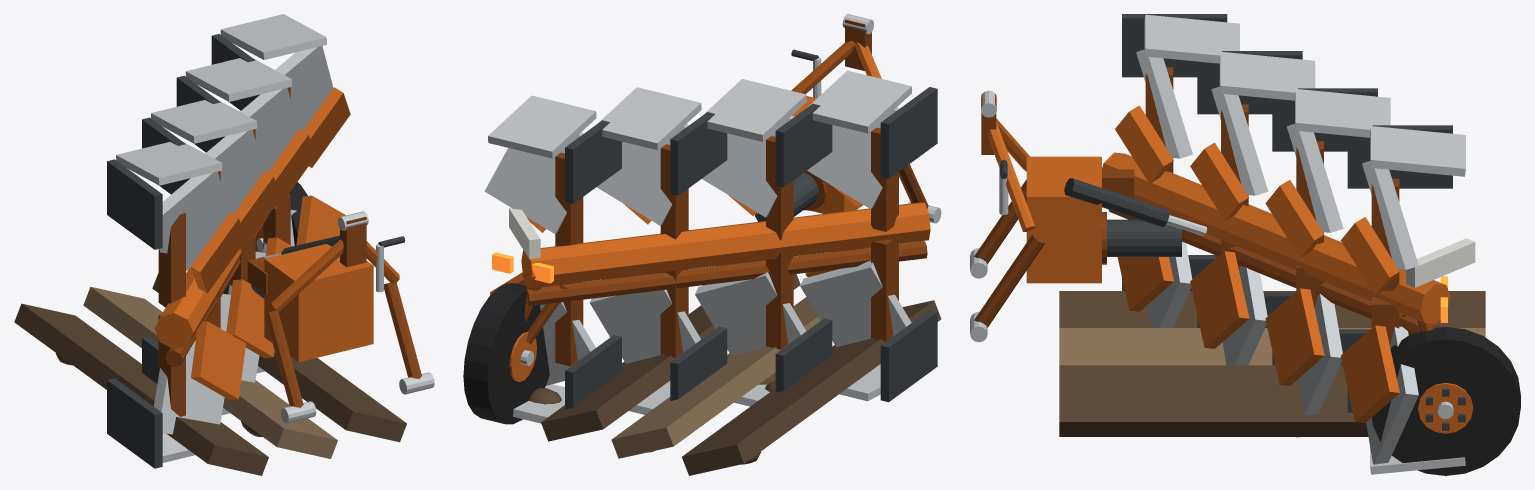
The model's file is reversible_plow.glb.
3 views of the same model, side by side, from view 1: azimuth 30°, elevation 25°; view 2: azimuth 150°, elevation 25°; view 3: azimuth 270°, elevation 25° (orthographic). The views are drawn at different scales.
Parts seen in each view (by area): view 1: RevPlowBody, FurrowProps, SupportWheel; view 2: RevPlowBody, FurrowProps, SupportWheel; view 3: RevPlowBody, FurrowProps, SupportWheel.
Part boxes in pixels (bbox=[...]): RevPlowBody: bbox=[107, 14, 434, 468]; FurrowProps: bbox=[14, 273, 406, 475]; SupportWheel: bbox=[255, 182, 307, 251]; RevPlowBody: bbox=[484, 14, 941, 423]; FurrowProps: bbox=[529, 274, 941, 475]; SupportWheel: bbox=[463, 283, 549, 424]; RevPlowBody: bbox=[970, 14, 1475, 474]; FurrowProps: bbox=[1059, 291, 1485, 436]; SupportWheel: bbox=[1372, 327, 1520, 475].
Bounding box in the file's own units: 1.61 × 1.39 × 2.19.
